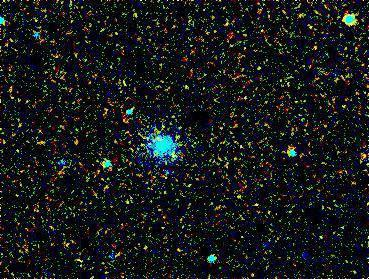star: (301, 35, 331, 65)
